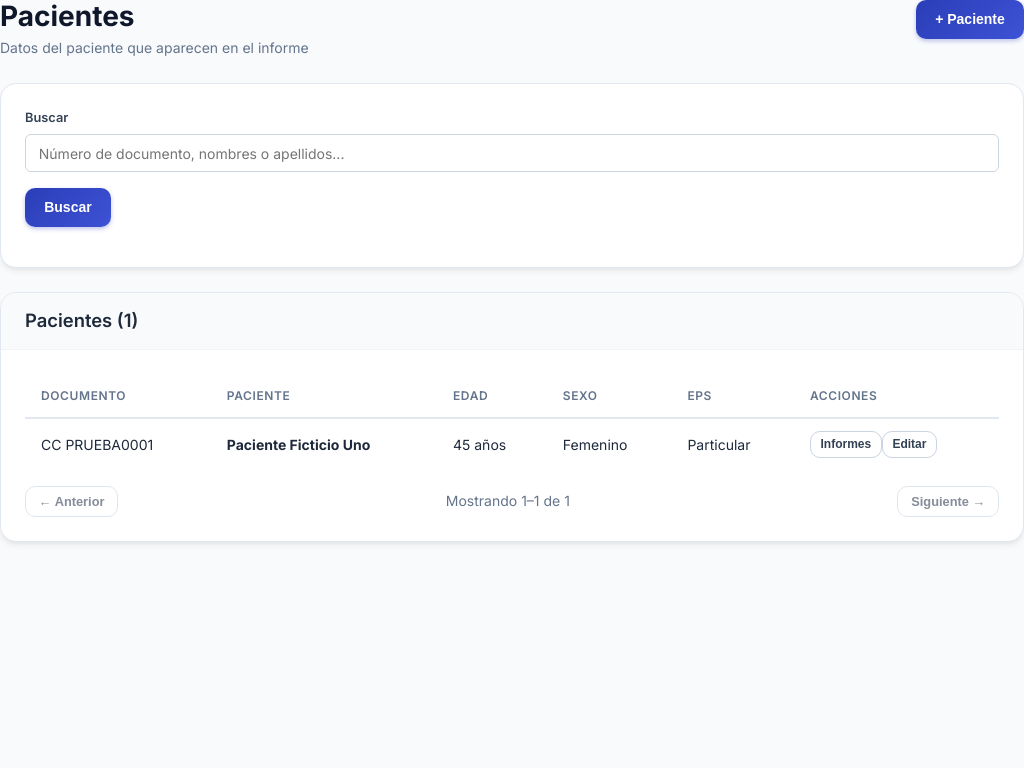
PacientesPage › al editar, conserva la EPS desactivada que ya tenía el paciente
Click the button "Editar": (909, 445) [882, 431, 937, 458]
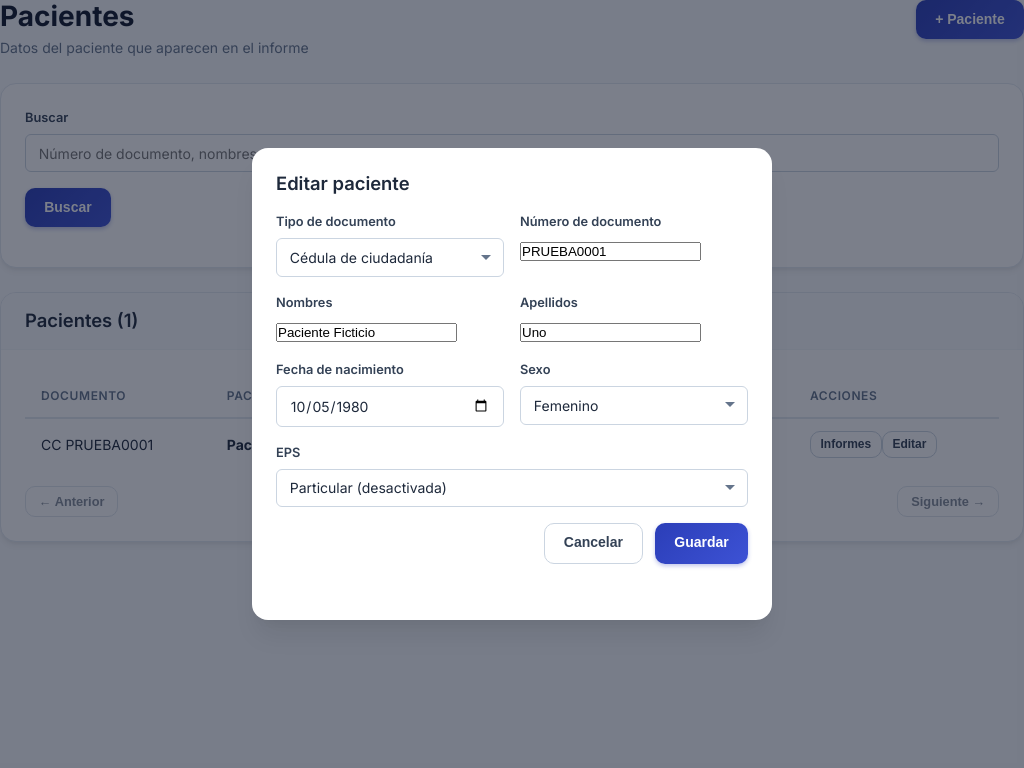
Check: the dropdown labelled "EPS" shows "Particular (desactivada)", box [276, 469, 748, 507]
